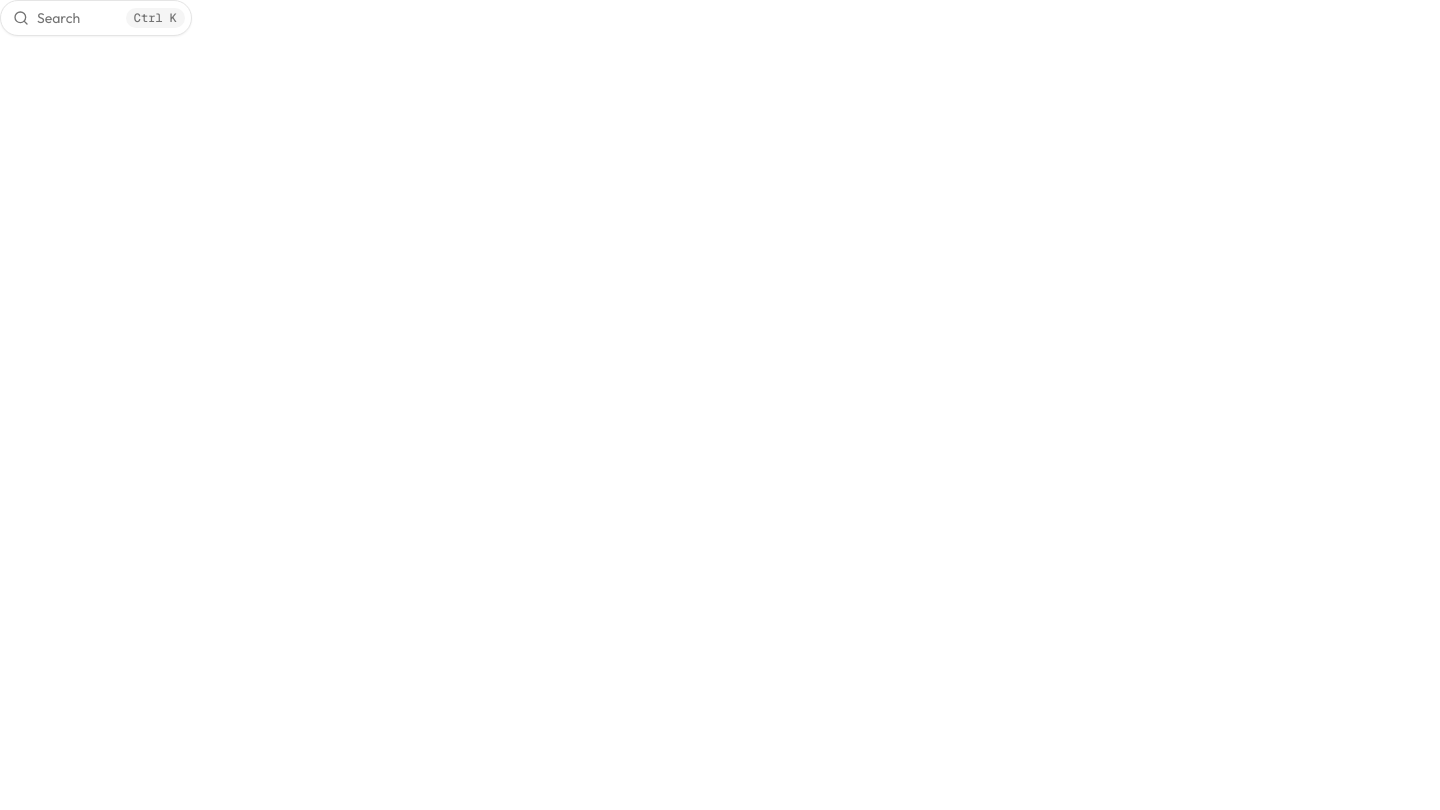
Test: the command menu › keeps the legal pages out of the list until someone searches
The image size is (1440, 810).
Press k
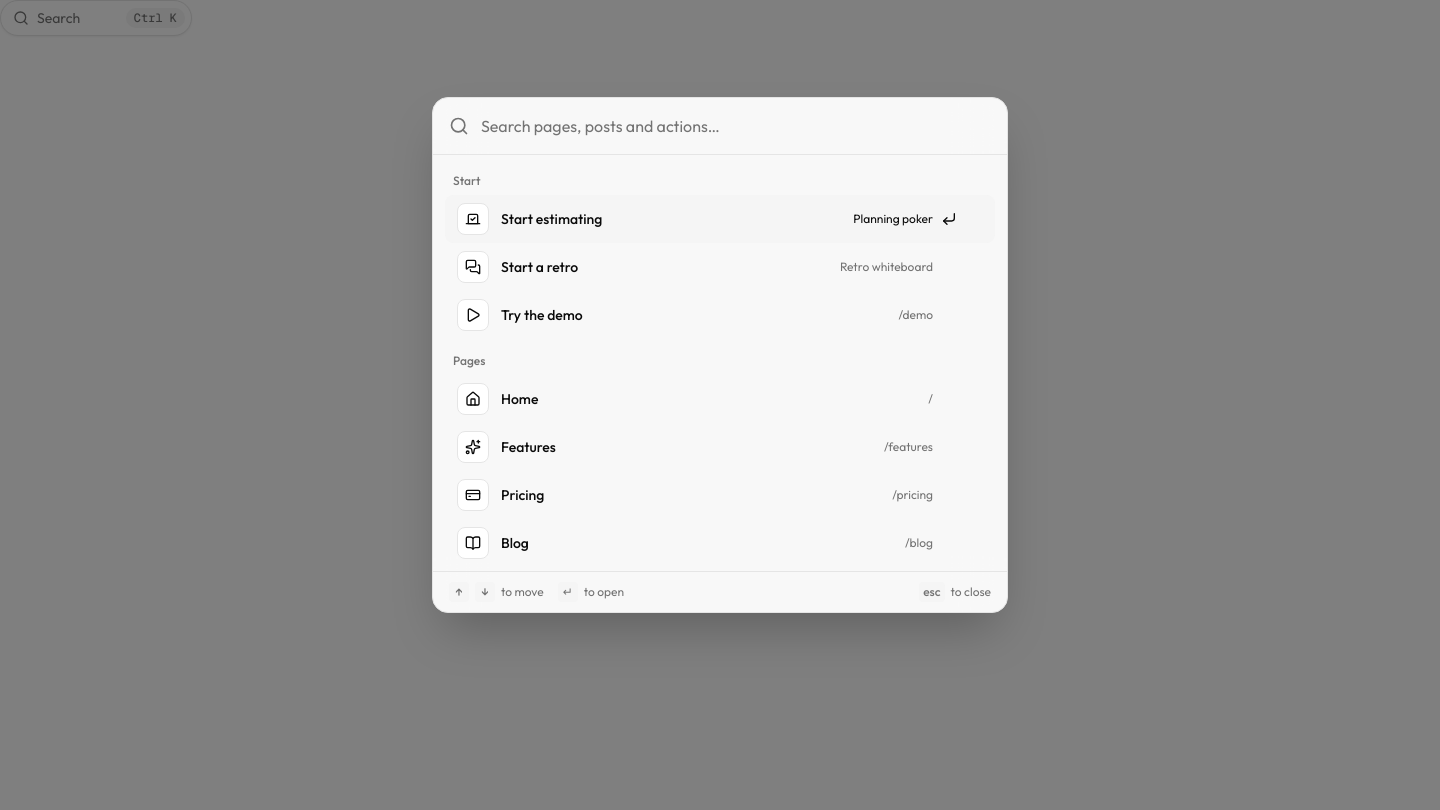
Expected: the option "Privacy Policy" is not shown
Type "privacy" into the dropdown with placeholder "Search pages, posts and actions…".
click(736, 126); type("privacy")  # box [481,98,991,154]
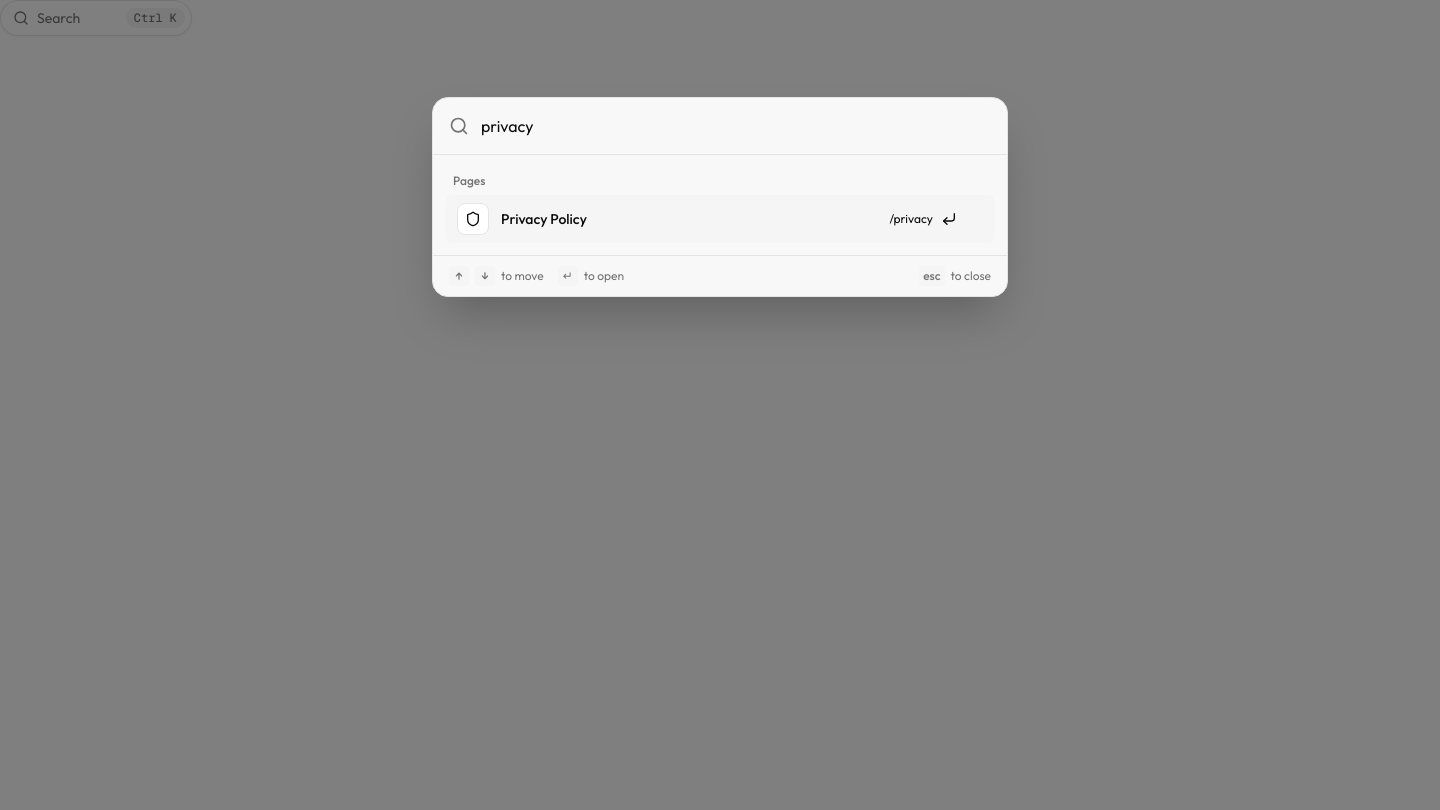
Expected: the option "Privacy Policy /privacy" is shown, [445,195,995,243]
